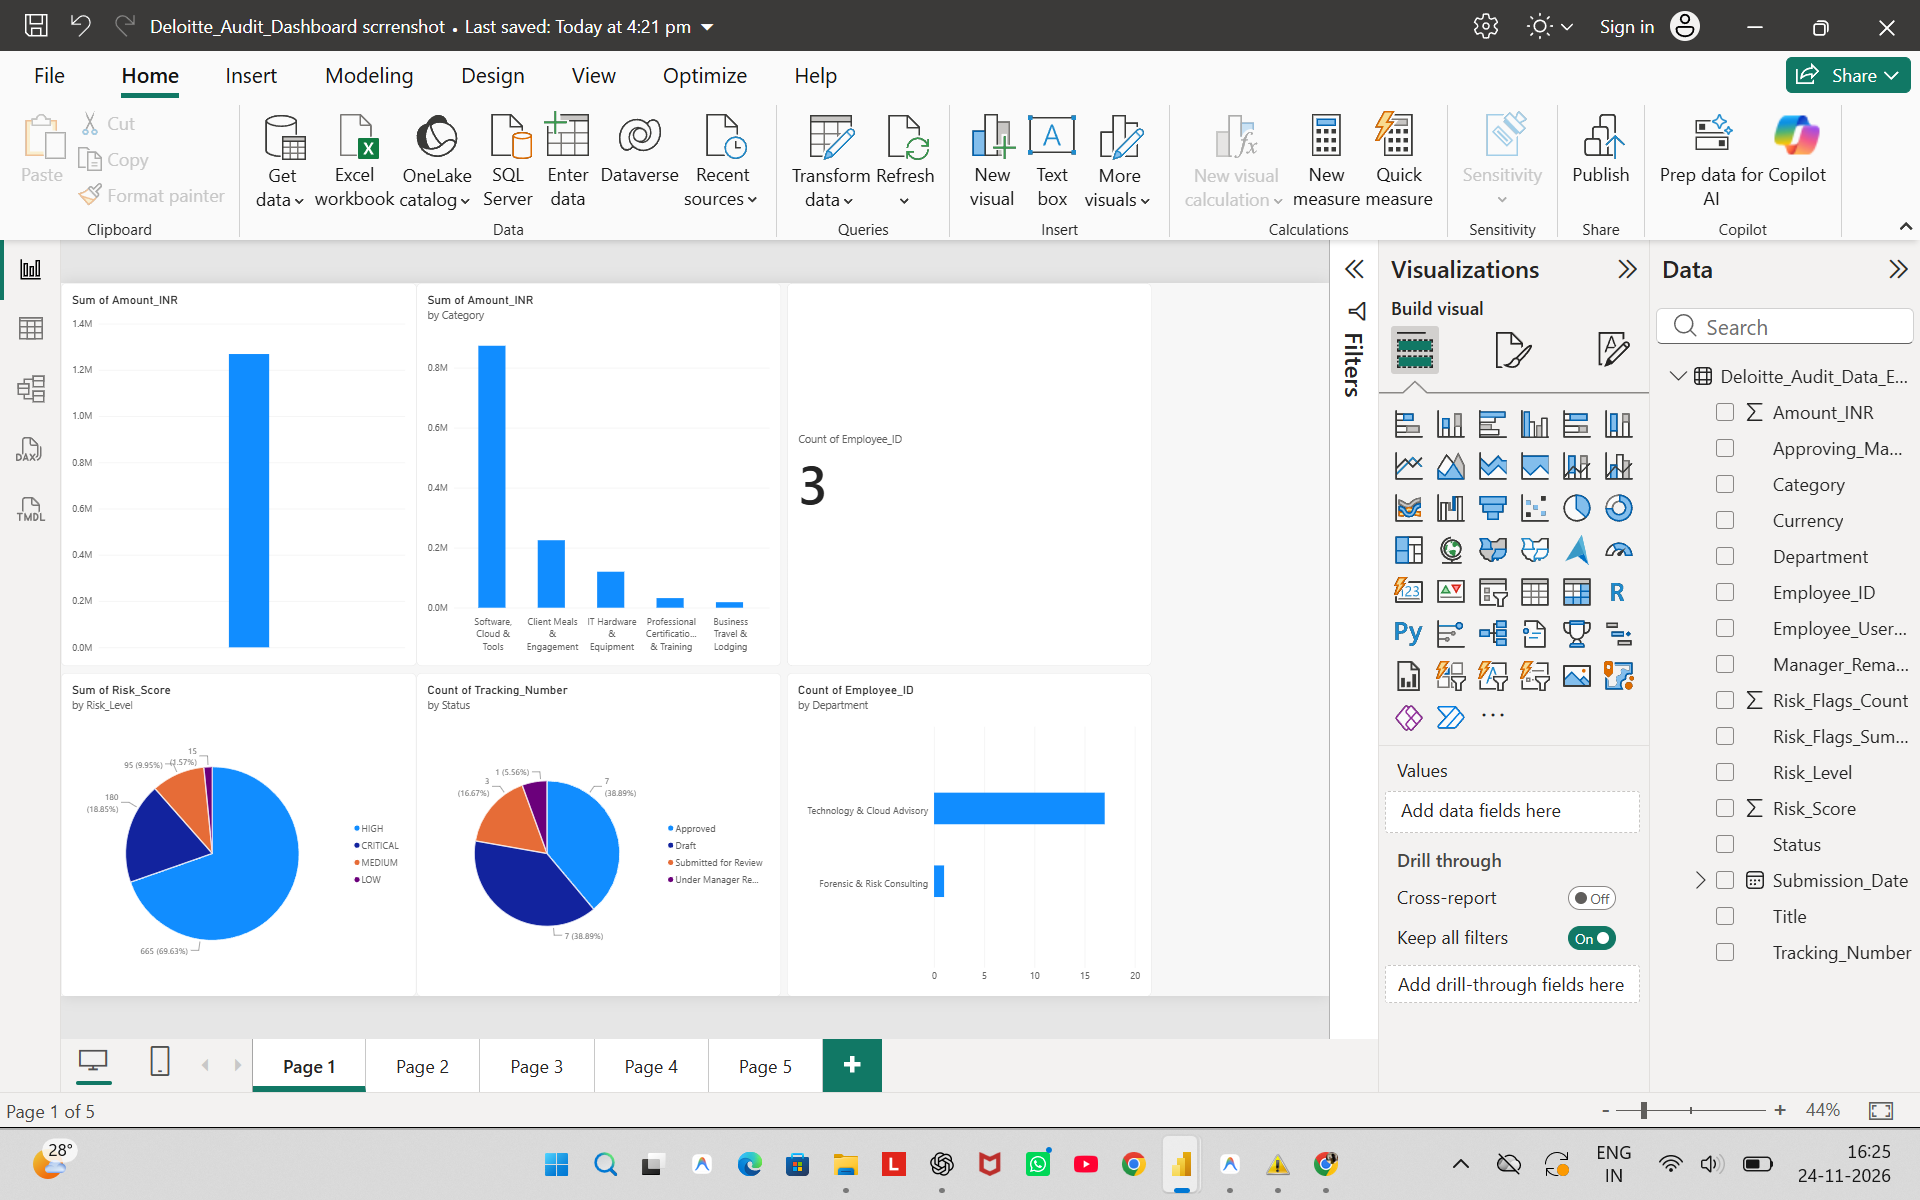

This screenshot's page, from the dashboard's own definition file:
{"tool":"powerbi","page":{"name":"Page 1","canvas":[1920,1080],"ordinal":0},"visuals":[{"type":"clusteredColumnChart","fields":{"Y":["Sum(Deloitte_Audit_Data_Export_2026.Amount_INR)"]},"box":[0,0,538.3,580],"z":0},{"type":"clusteredColumnChart","fields":{"Category":["Deloitte_Audit_Data_Export_2026.Category"],"Y":["Sum(Deloitte_Audit_Data_Export_2026.Amount_INR)"]},"box":[538.3,0,551.7,580],"z":1000},{"type":"pieChart","fields":{"Category":["Deloitte_Audit_Data_Export_2026.Risk_Level"],"Y":["Sum(Deloitte_Audit_Data_Export_2026.Risk_Score)"]},"box":[0,590,538,490],"z":2000},{"type":"pieChart","fields":{"Category":["Deloitte_Audit_Data_Export_2026.Status"],"Y":["CountNonNull(Deloitte_Audit_Data_Export_2026.Tracking_Number)"]},"box":[538,590,552,490],"z":3000},{"type":"cardVisual","fields":{"Data":["Count(Deloitte_Audit_Data_Export_2026.Employee_ID)"]},"box":[1100,0,552,580],"z":4000},{"type":"clusteredBarChart","fields":{"Category":["Deloitte_Audit_Data_Export_2026.Department"],"Y":["CountNonNull(Deloitte_Audit_Data_Export_2026.Employee_ID)"]},"box":[1100,590,552,490],"z":5000}]}

Visuals, with their boxes on the page's 1920x1080 design canvas (x1, y1, x2, y2). These are canvas units, not pixel positions in the 1920x1200 screenshot, which may show the page scaled, cropped or inside an application window:
clusteredColumnChart - Sum(Deloitte_Audit_Data_Export_2026.Amount_INR): locate(0, 0, 538, 580)
clusteredColumnChart - Deloitte_Audit_Data_Export_2026.Category x Sum(Deloitte_Audit_Data_Export_2026.Amount_INR): locate(538, 0, 1090, 580)
pieChart - Deloitte_Audit_Data_Export_2026.Risk_Level x Sum(Deloitte_Audit_Data_Export_2026.Risk_Score): locate(0, 590, 538, 1080)
pieChart - Deloitte_Audit_Data_Export_2026.Status x CountNonNull(Deloitte_Audit_Data_Export_2026.Tracking_Number): locate(538, 590, 1090, 1080)
cardVisual - Count(Deloitte_Audit_Data_Export_2026.Employee_ID): locate(1100, 0, 1652, 580)
clusteredBarChart - Deloitte_Audit_Data_Export_2026.Department x CountNonNull(Deloitte_Audit_Data_Export_2026.Employee_ID): locate(1100, 590, 1652, 1080)
